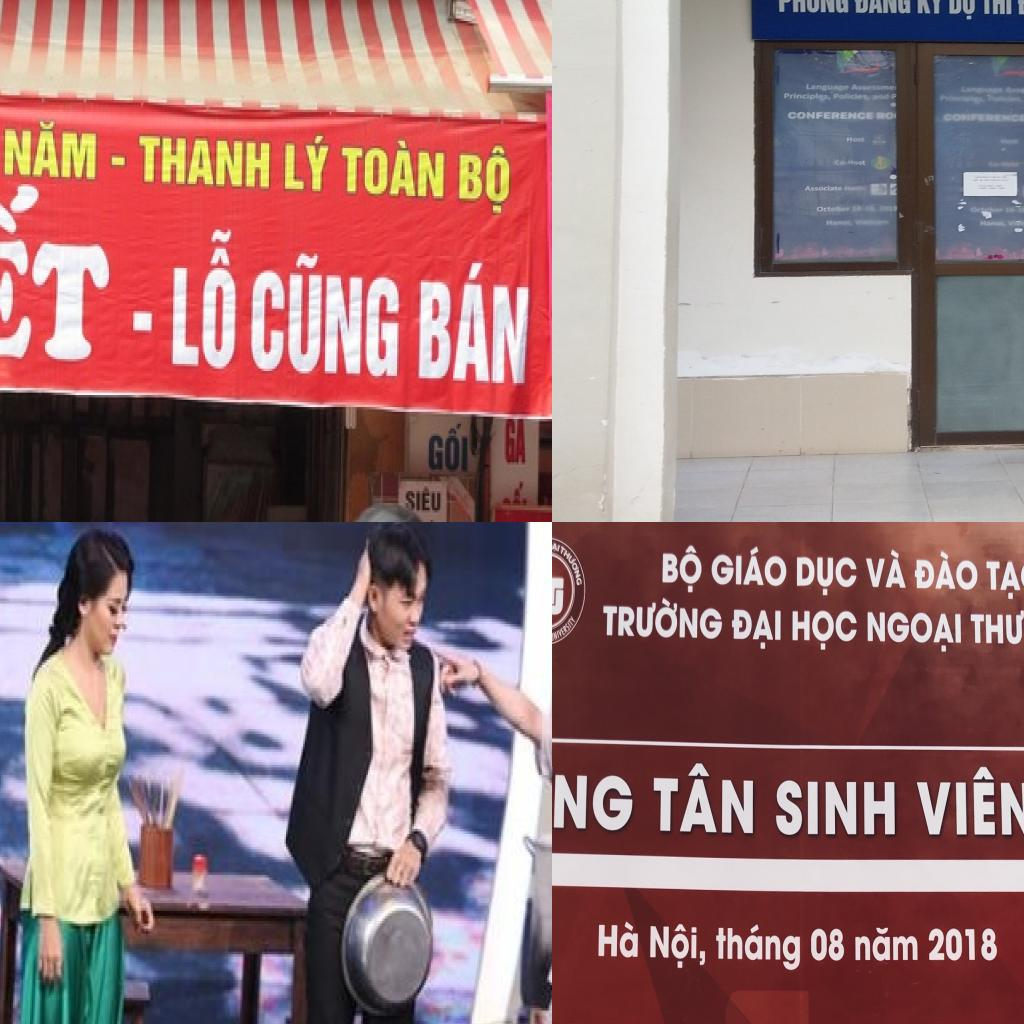text: (0, 177, 120, 369), (248, 244, 405, 385), (414, 258, 534, 390), (170, 225, 242, 376), (136, 131, 274, 194), (911, 764, 1024, 838), (652, 759, 756, 837), (340, 134, 448, 203), (774, 778, 897, 838), (552, 748, 634, 835), (2, 114, 101, 186), (601, 593, 724, 641), (716, 922, 802, 974), (456, 141, 512, 220), (866, 610, 963, 654), (710, 544, 788, 590), (282, 129, 334, 196), (911, 546, 981, 593), (792, 608, 860, 654), (649, 920, 708, 971), (796, 553, 860, 599), (927, 927, 998, 963), (730, 605, 783, 651), (428, 419, 470, 477), (854, 926, 919, 962), (969, 607, 1024, 648), (661, 542, 704, 594), (864, 545, 908, 591), (597, 920, 640, 960), (985, 558, 1024, 601), (559, 540, 590, 590), (810, 926, 846, 963), (404, 486, 444, 518), (504, 417, 528, 467), (776, 0, 851, 14), (786, 110, 875, 121), (552, 613, 578, 647), (853, 0, 911, 15), (940, 113, 1024, 123), (946, 0, 978, 20), (979, 0, 1013, 16), (914, 0, 945, 15), (782, 92, 832, 101), (804, 83, 850, 92), (850, 83, 895, 92), (832, 92, 872, 101), (802, 185, 844, 192), (831, 159, 869, 166), (814, 206, 850, 213), (978, 220, 1008, 228), (824, 219, 855, 226), (851, 205, 878, 213), (876, 111, 895, 121), (843, 184, 865, 192), (552, 539, 562, 555), (1005, 206, 1024, 214), (878, 205, 899, 212), (872, 92, 890, 100), (846, 136, 865, 143), (891, 93, 898, 101)
